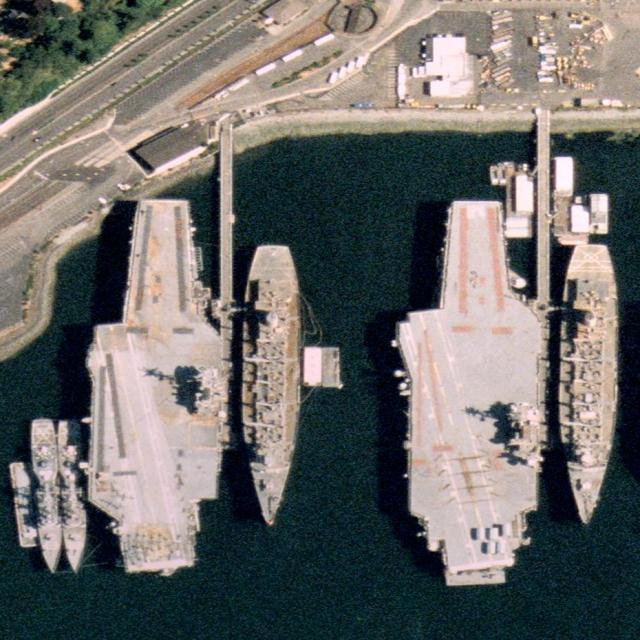Aircraft Carrier: (78, 196, 232, 575), (394, 199, 544, 572)
Dock: (211, 137, 238, 326), (531, 121, 553, 316)
Frigate: (31, 418, 64, 573), (56, 419, 89, 573)
Other Warship: (558, 240, 620, 524), (242, 244, 303, 529)
